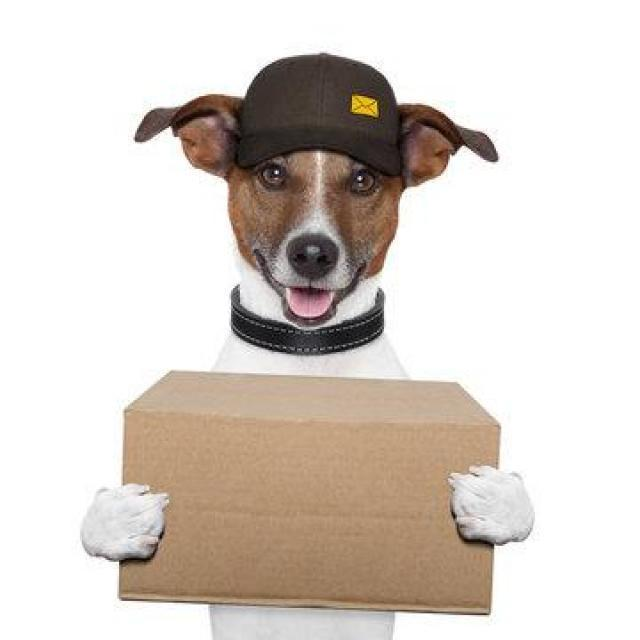box: (114, 364, 504, 622)
